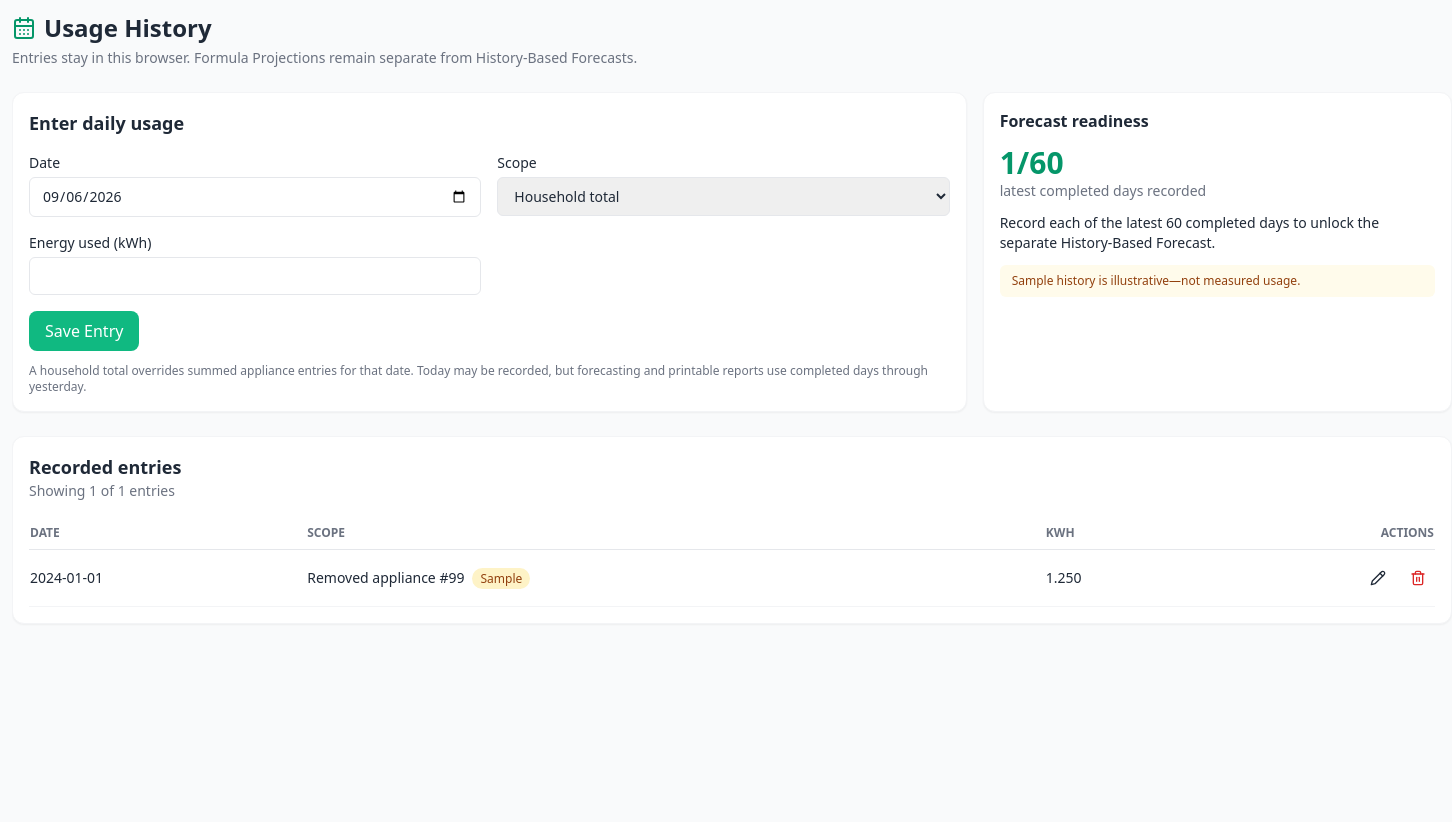
Test: usage history interface › shows validation feedback when an entry is rejected
The image size is (1452, 822).
Step 1. Type "1" into the number field named "Energy used in kWh" → (255, 276), box [29,257,481,295]
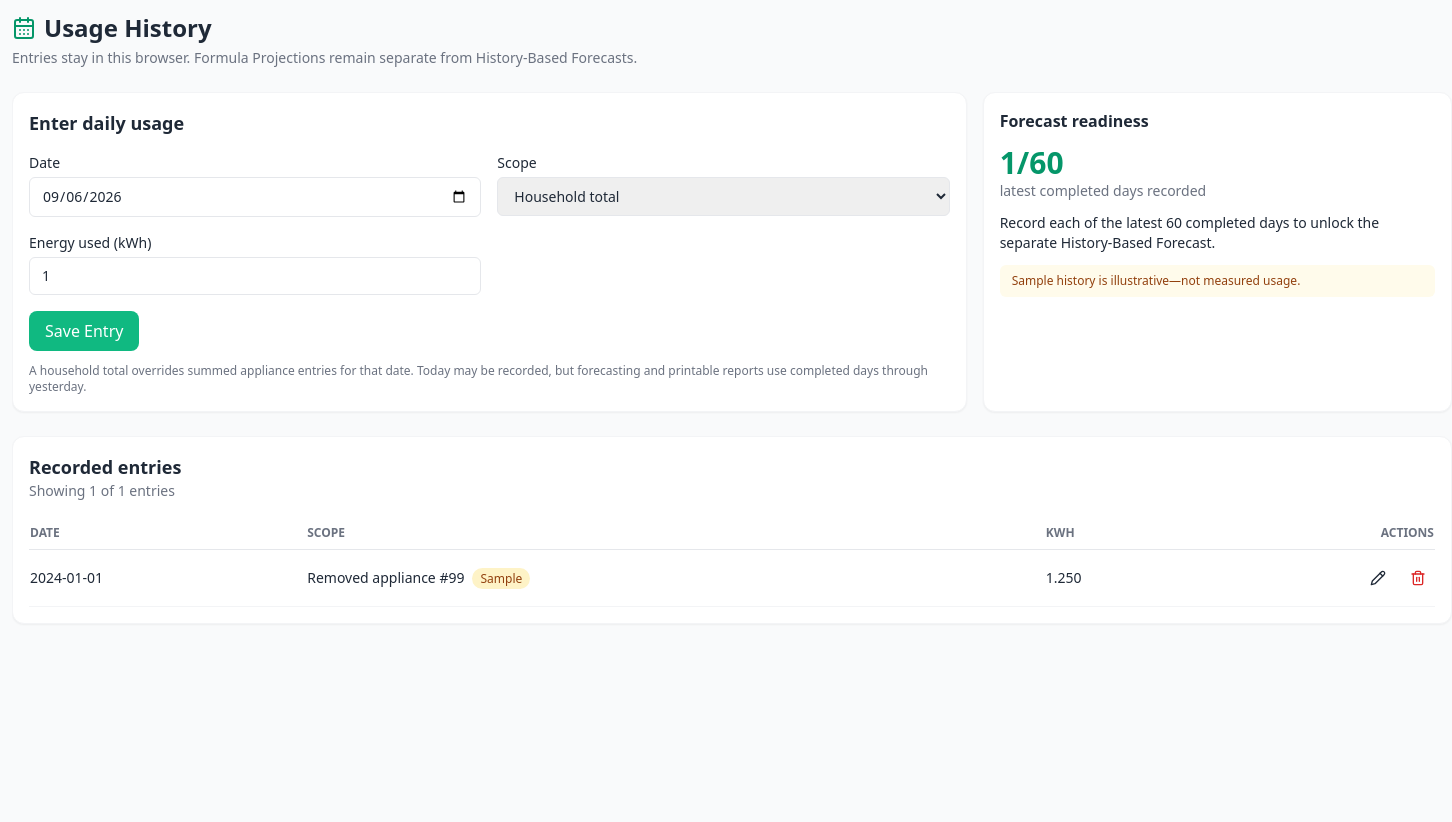
Step 2. Click the button "Save Entry" → (84, 331), box [29,311,139,351]
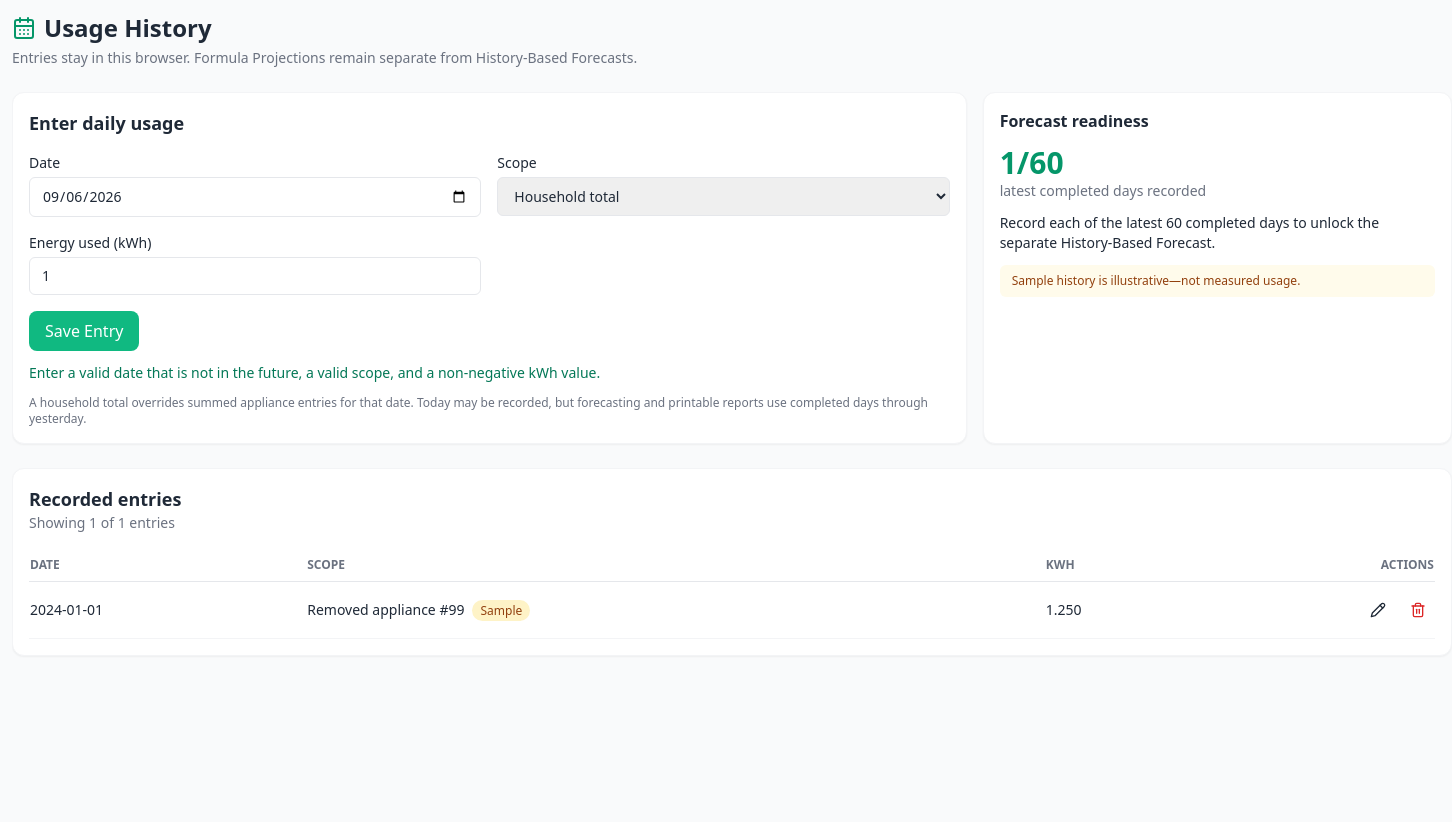
Expected: the message shows "not in the future", [29,363,600,382]
